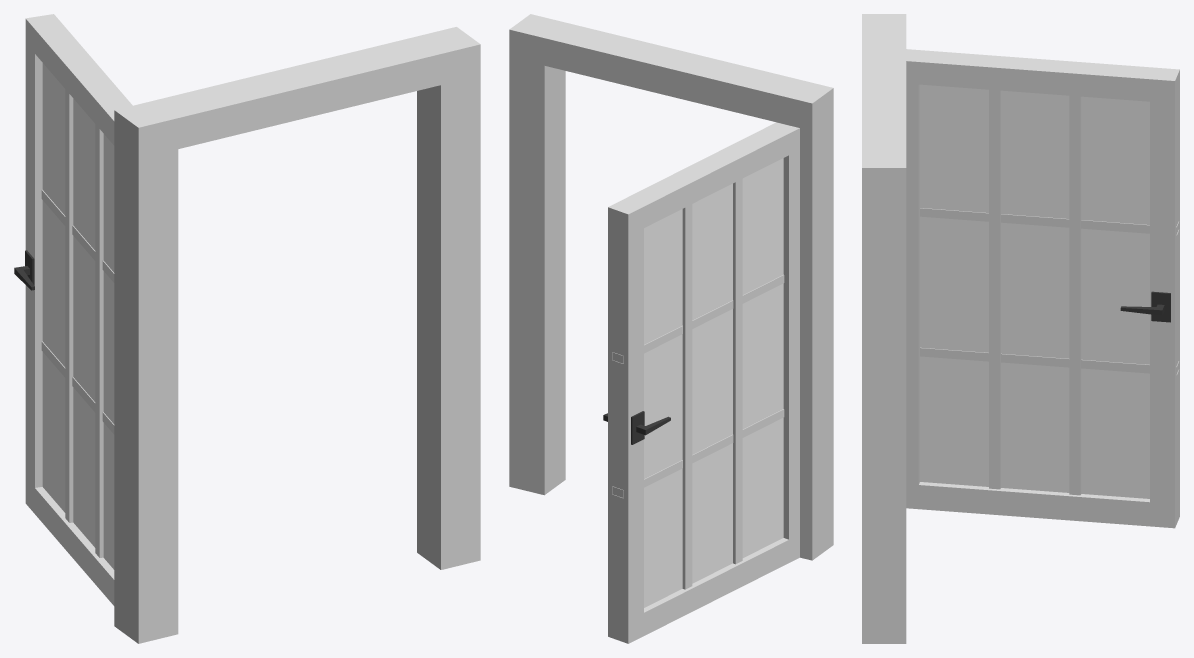
Rendered from door_001.glb.
3 views of the same model, side by side, from view 1: azimuth 30°, elevation 25°; view 2: azimuth 150°, elevation 25°; view 3: azimuth 270°, elevation 25° (orthographic). The views are drawn at different scales.
Parts seen in each view (by area): view 1: door_frame_001, door_001, door_001.002; view 2: door_frame_001, door_001.002, door_001; view 3: door_001.001, door_001, door_frame_001.
Boxes of the visible parts, <box> form: door_frame_001: <box>114,27,480,643</box>; door_001: <box>14,14,132,605</box>; door_001.002: <box>42,63,114,569</box>; door_frame_001: <box>509,14,833,560</box>; door_001.002: <box>644,158,783,607</box>; door_001: <box>603,122,799,643</box>; door_001.001: <box>920,84,1149,498</box>; door_001: <box>906,49,1179,528</box>; door_frame_001: <box>862,14,906,643</box>.
Size of the model in its own units: 1.81 by 2.61 by 1.58.
2 materials, 1 textured.
